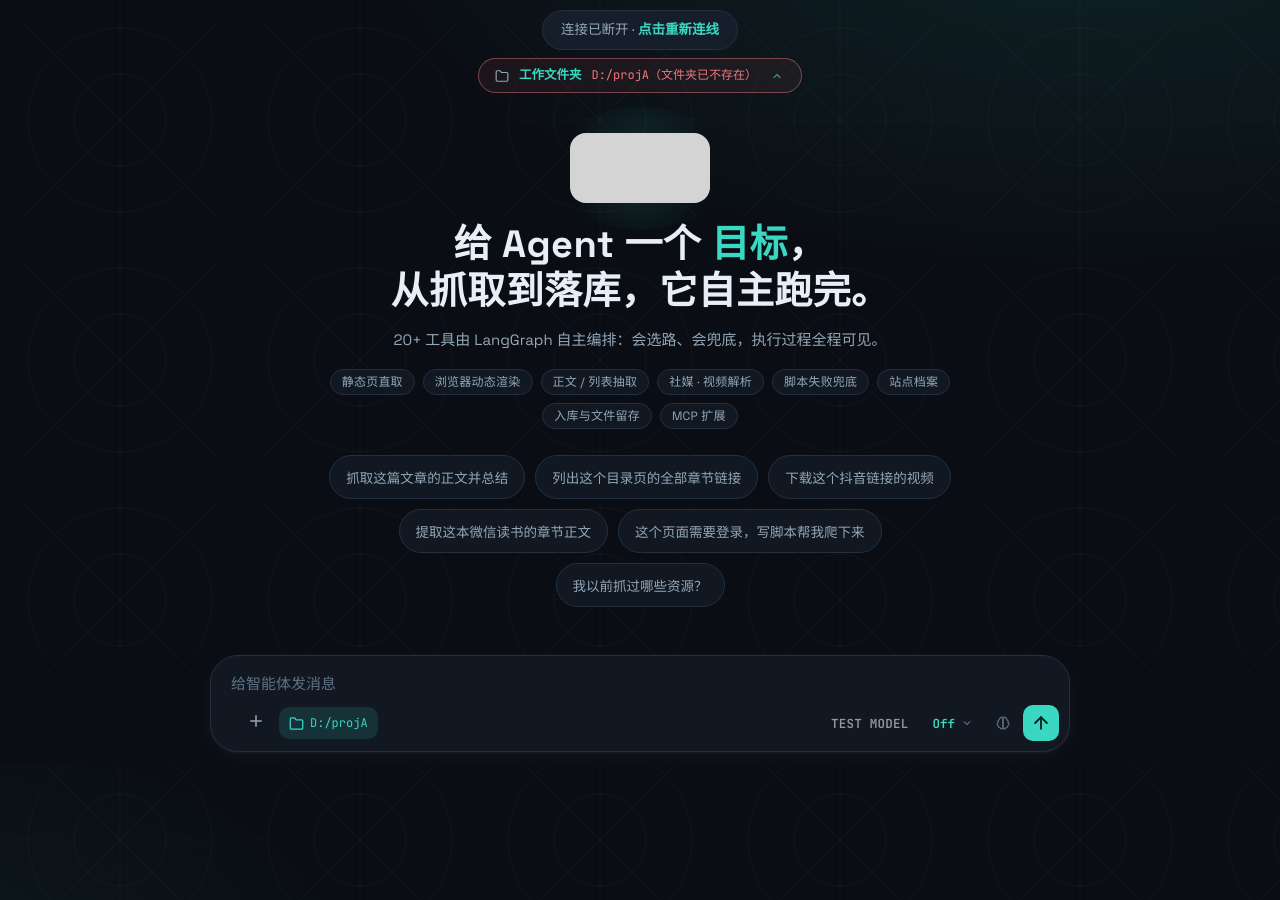
Test: ChatPage › 已绑定失效态 → 只读卡片警示文案
Step 1. Click the button with class "wd-switch" → (777, 76), box [767,66,787,86]
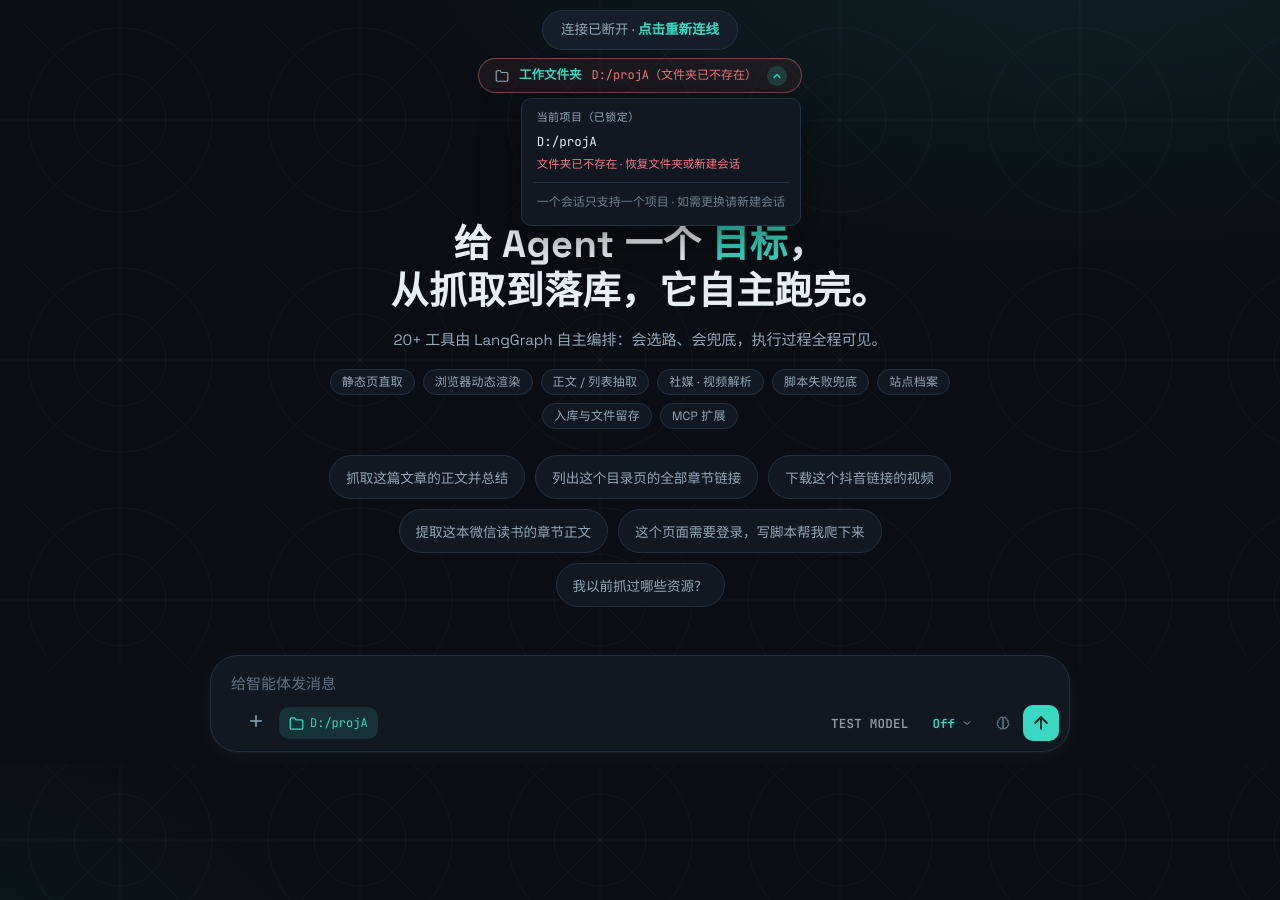
Now the text with class "wd-menu-status" shows "文件夹已不存在", box [537,157,740,171]
